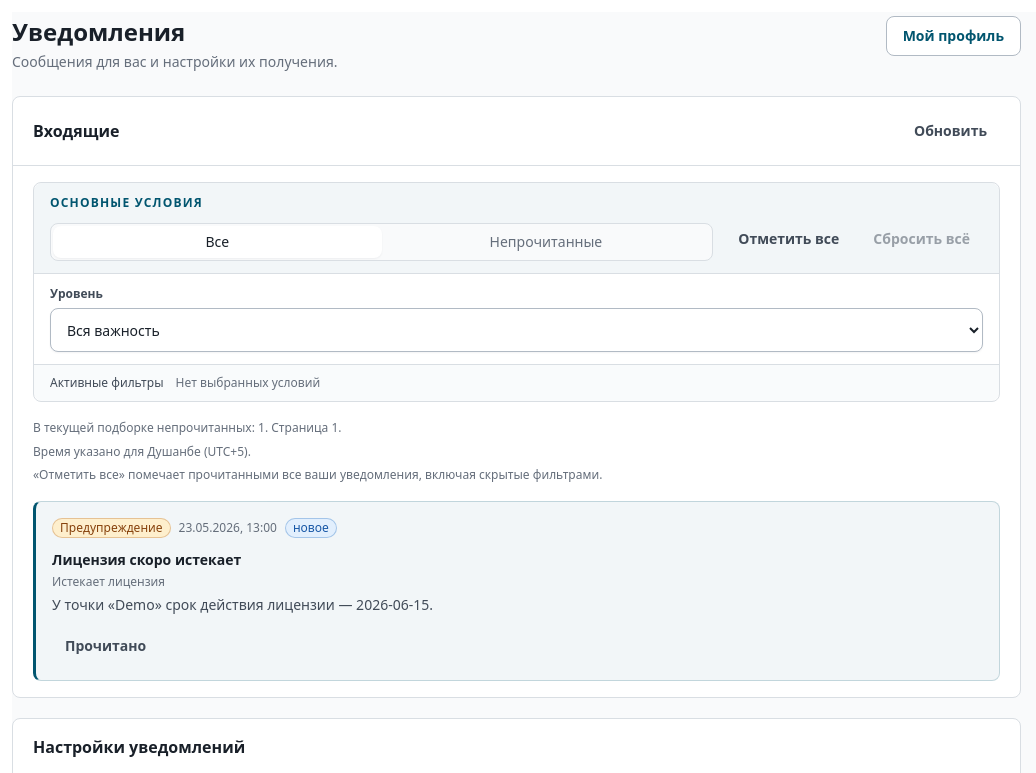
Test: NotificationsPage › shows a single-read failure and keeps the notification actionable
This screenshot has width=1036, height=773.
Click the button "Прочитано" at {"x": 106, "y": 646}, box x1=52 y1=628 x2=159 y2=664
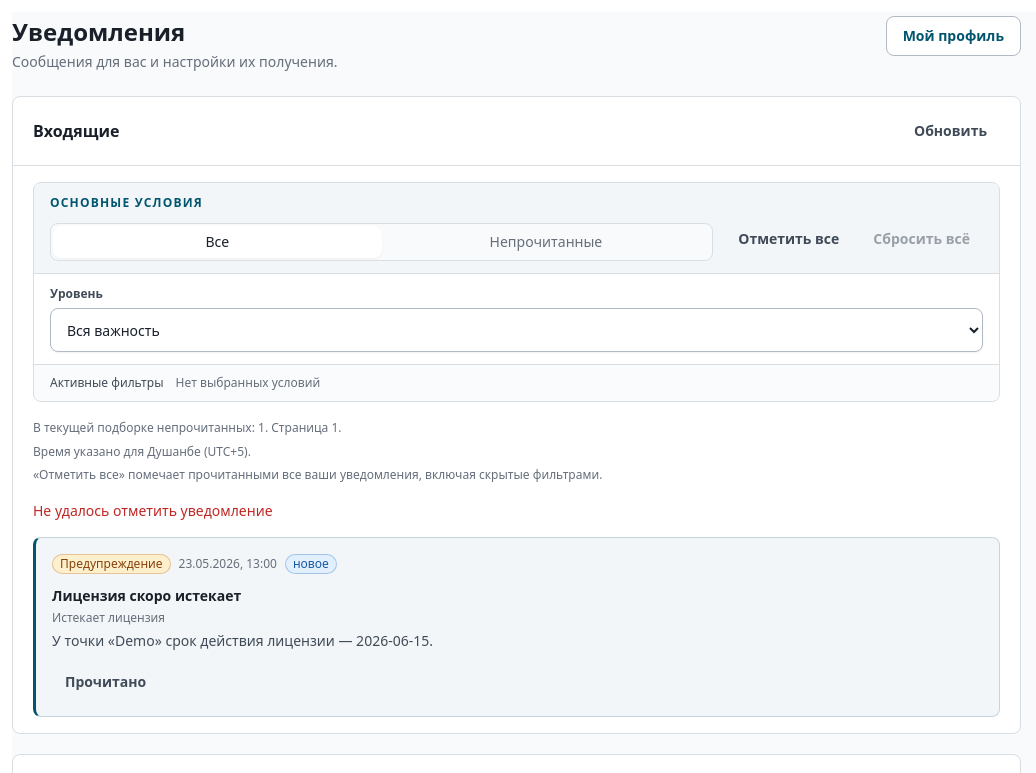
Check: the text "Лицензия скоро истекает" is shown, box x1=52 y1=586 x2=241 y2=604
Check: the text "Не удалось отметить уведомление" is shown, box x1=33 y1=500 x2=273 y2=520
